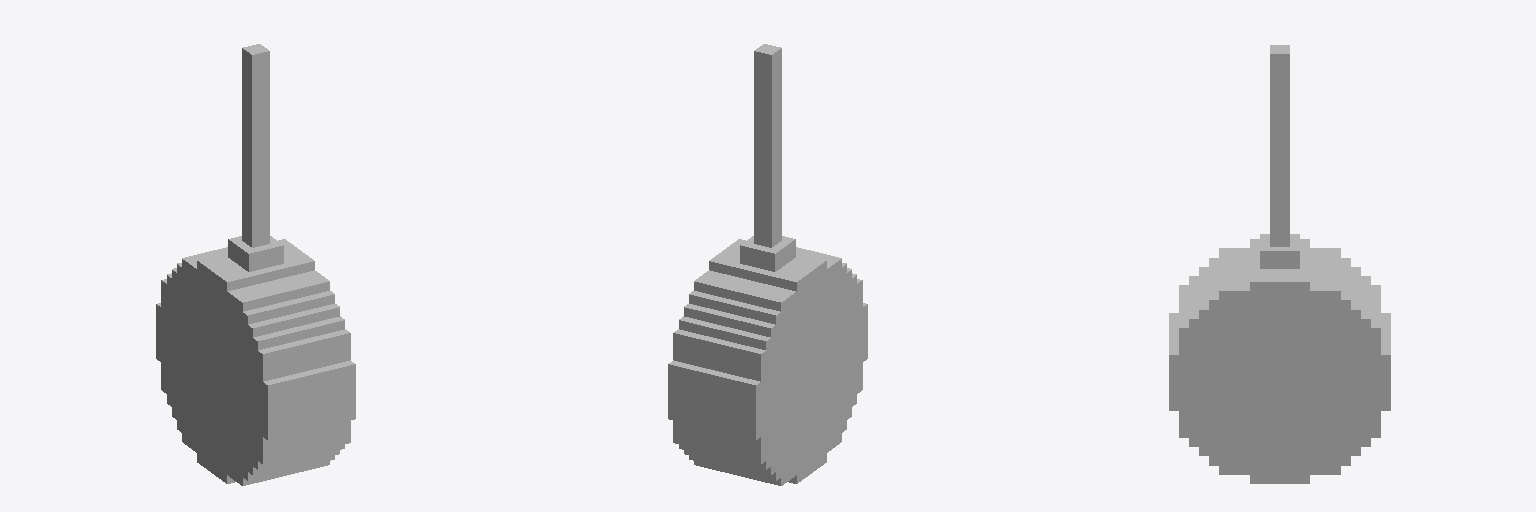
File: Going Up4.obj
The picture shows the model from 3 angles: view 1: azimuth 30°, elevation 25°; view 2: azimuth 150°, elevation 25°; view 3: azimuth 270°, elevation 25°; orthographic projection.
Bounding box in the file's own units: 10 × 45 × 22.